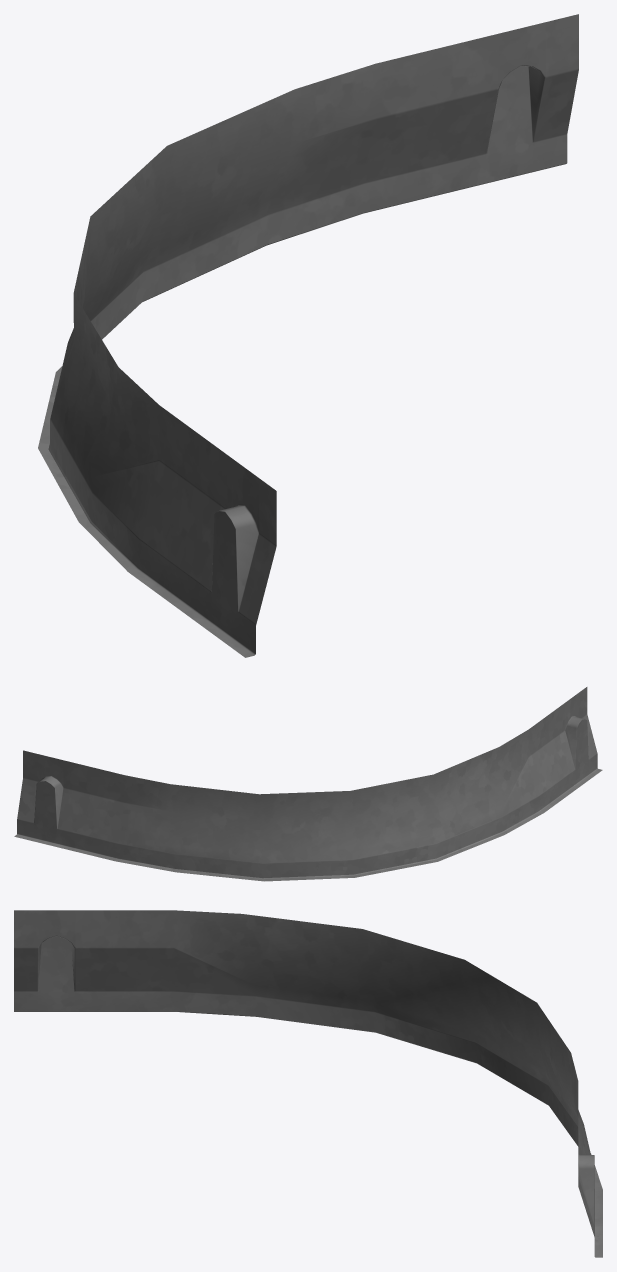
File: TrimV3_InsideCurved.fbx
3 renders of one model, top to bottom at view 1: azimuth 30°, elevation 25°; view 2: azimuth 150°, elevation 25°; view 3: azimuth 270°, elevation 25°, orthographic. The views are drawn at different scales.
Visible parts, largest first — view 1: TrimV3_InsideCurved; view 2: TrimV3_InsideCurved; view 3: TrimV3_InsideCurved.
Boxes of the visible parts, x1,y1,x2,y2 form: TrimV3_InsideCurved: (38, 14, 578, 657); TrimV3_InsideCurved: (14, 687, 602, 881); TrimV3_InsideCurved: (14, 910, 602, 1257).
Bounding box in the file's own units: 490 × 101 × 490.
Materials: 1 (1 with a texture image).
